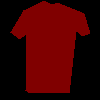abbigliamento_uomo: (10, 0, 90, 93)
